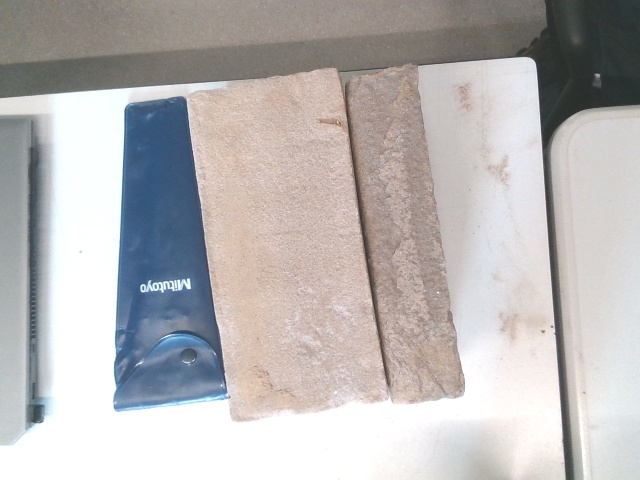brick: (187, 71, 385, 419)
